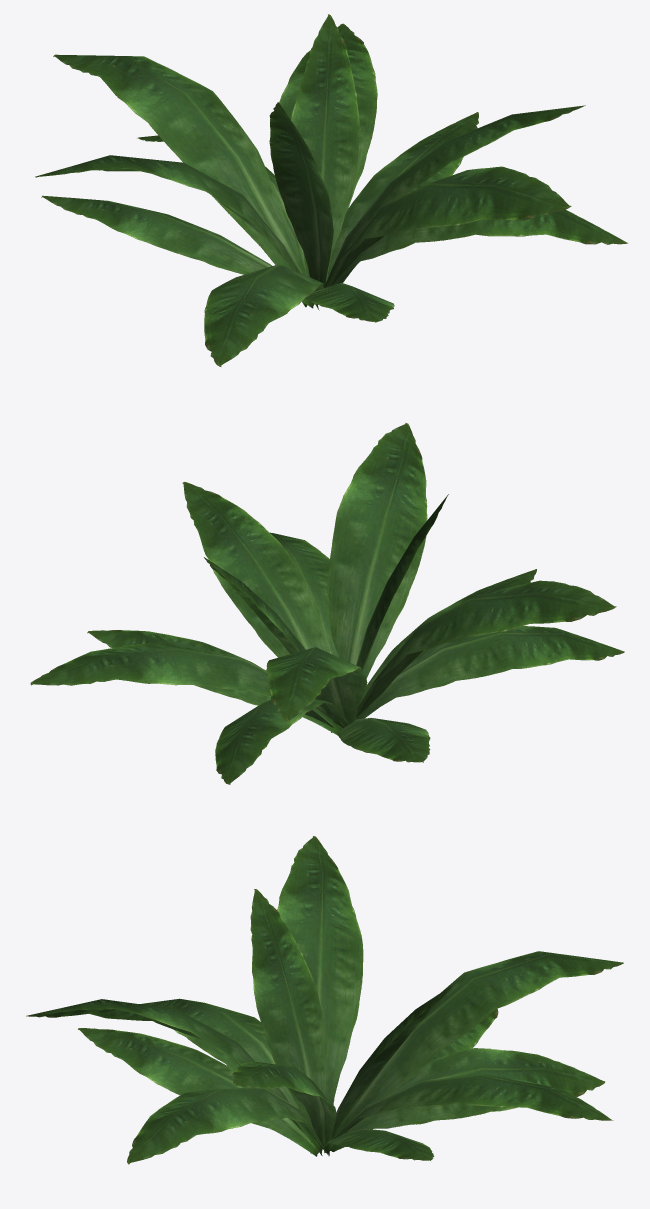
File: MK4_Trop_Plant11.DAE
The picture shows the model from 3 angles, top to bottom: view 1: azimuth 30°, elevation 25°; view 2: azimuth 150°, elevation 25°; view 3: azimuth 270°, elevation 25°; orthographic projection. The views are drawn at different scales.
Visible parts, largest first — view 1: MK4_Trop_plant11; view 2: MK4_Trop_plant11; view 3: MK4_Trop_plant11.
Boxes of the visible parts, bbox=[...] form: MK4_Trop_plant11: bbox=[35, 14, 628, 366]; MK4_Trop_plant11: bbox=[30, 423, 624, 784]; MK4_Trop_plant11: bbox=[26, 836, 623, 1164].
Bounding box in the file's own units: 2.19 × 2.42 × 1.08.
